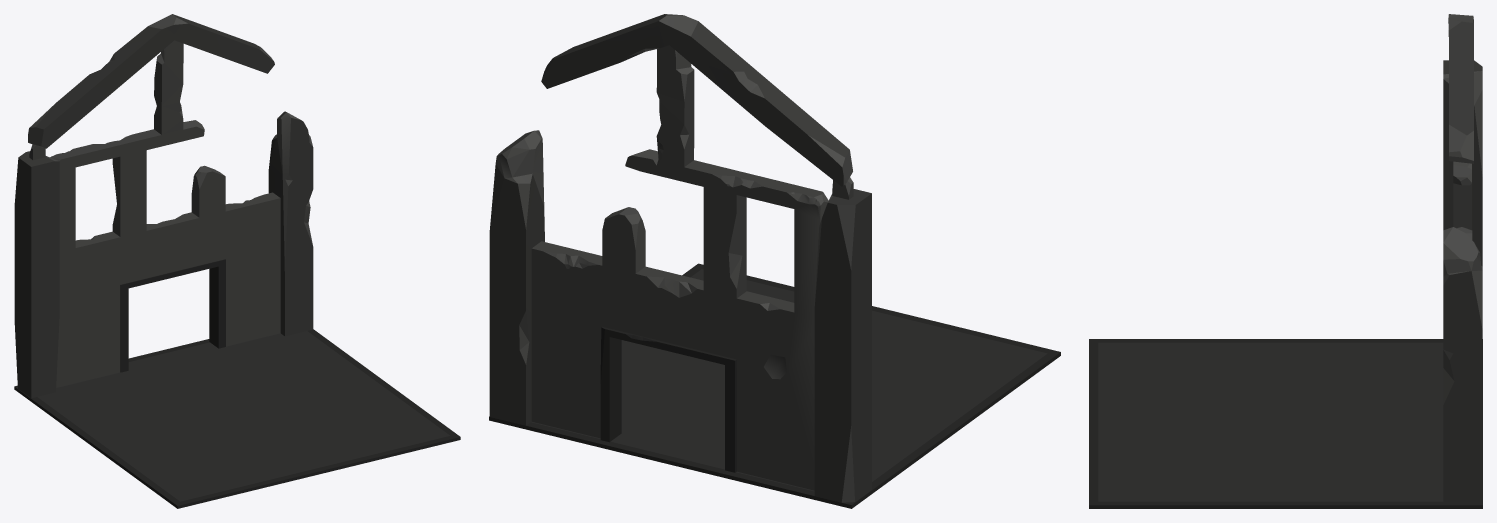
The model's file is 20C_BrokenHouse_02.fbx.
3 renders of one model, left to right at view 1: azimuth 30°, elevation 25°; view 2: azimuth 150°, elevation 25°; view 3: azimuth 270°, elevation 25°, orthographic. The views are drawn at different scales.
Visible parts, largest first — view 1: 20C_BrokenHouse_02; view 2: 20C_BrokenHouse_02; view 3: 20C_BrokenHouse_02.
Boxes of the visible parts, x1=… form: 20C_BrokenHouse_02: x1=14, y1=14, x2=460, y2=508; 20C_BrokenHouse_02: x1=489, y1=14, x2=1060, y2=508; 20C_BrokenHouse_02: x1=1089, y1=14, x2=1482, y2=508.
Size of the model in its own units: 100 by 115 by 99.94.
